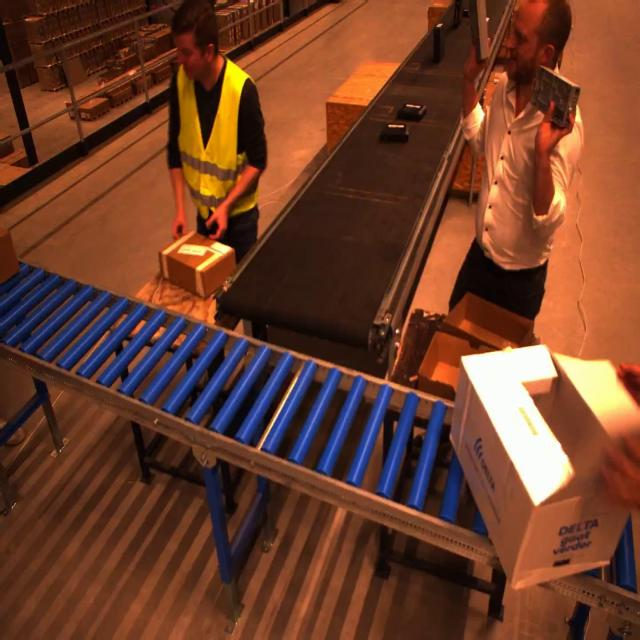box: (451, 337, 640, 591), (159, 222, 237, 295)
product: (530, 70, 583, 123), (468, 2, 491, 63), (381, 119, 411, 147), (394, 99, 426, 122), (433, 23, 447, 63), (453, 0, 463, 29)
